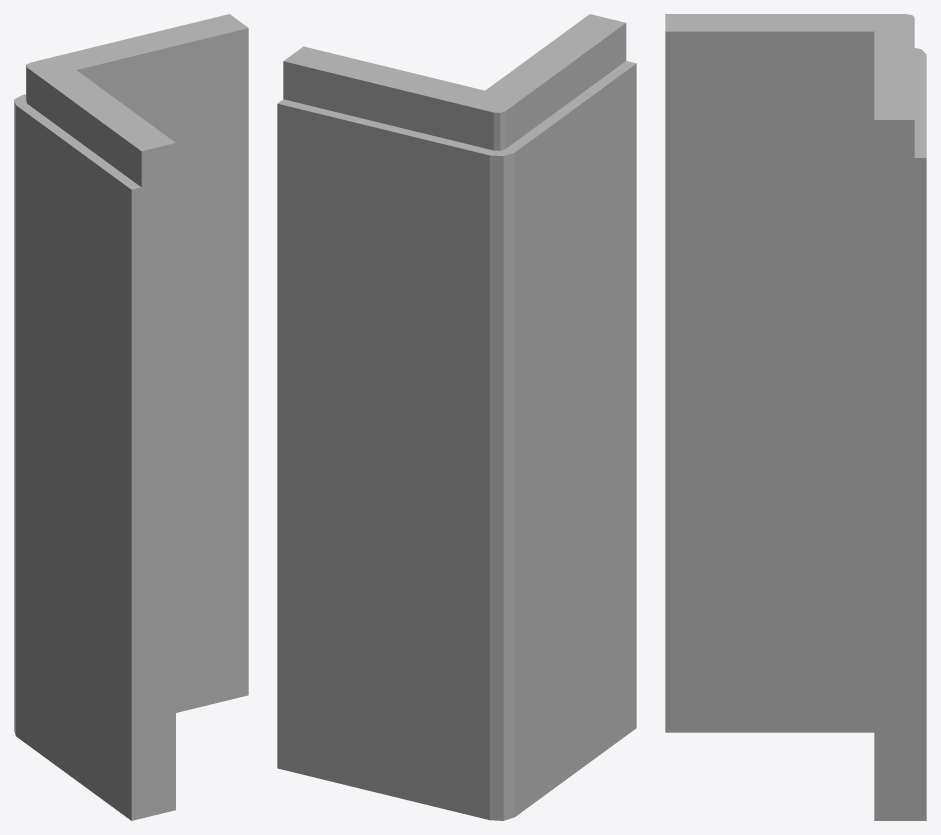
The model's file is SM_Building03_WallRoof03R.fbx.
The picture shows the model from 3 angles, left to right: view 1: azimuth 30°, elevation 25°; view 2: azimuth 150°, elevation 25°; view 3: azimuth 270°, elevation 25°; orthographic projection. The views are drawn at different scales.
Visible parts, largest first — view 1: SM_Building03_WallRoof03R_LOD0; view 2: SM_Building03_WallRoof03R_LOD0; view 3: SM_Building03_WallRoof03R_LOD0.
Boxes of the visible parts, x1,y1,x2,y2 form: SM_Building03_WallRoof03R_LOD0: [14, 14, 248, 820]; SM_Building03_WallRoof03R_LOD0: [277, 14, 636, 820]; SM_Building03_WallRoof03R_LOD0: [665, 14, 926, 820].
Size of the model in its own units: 126 by 125 by 370.
1 material, 1 textured.
